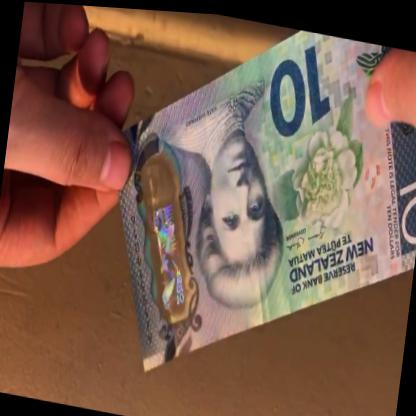10B: (134, 165, 204, 315)
